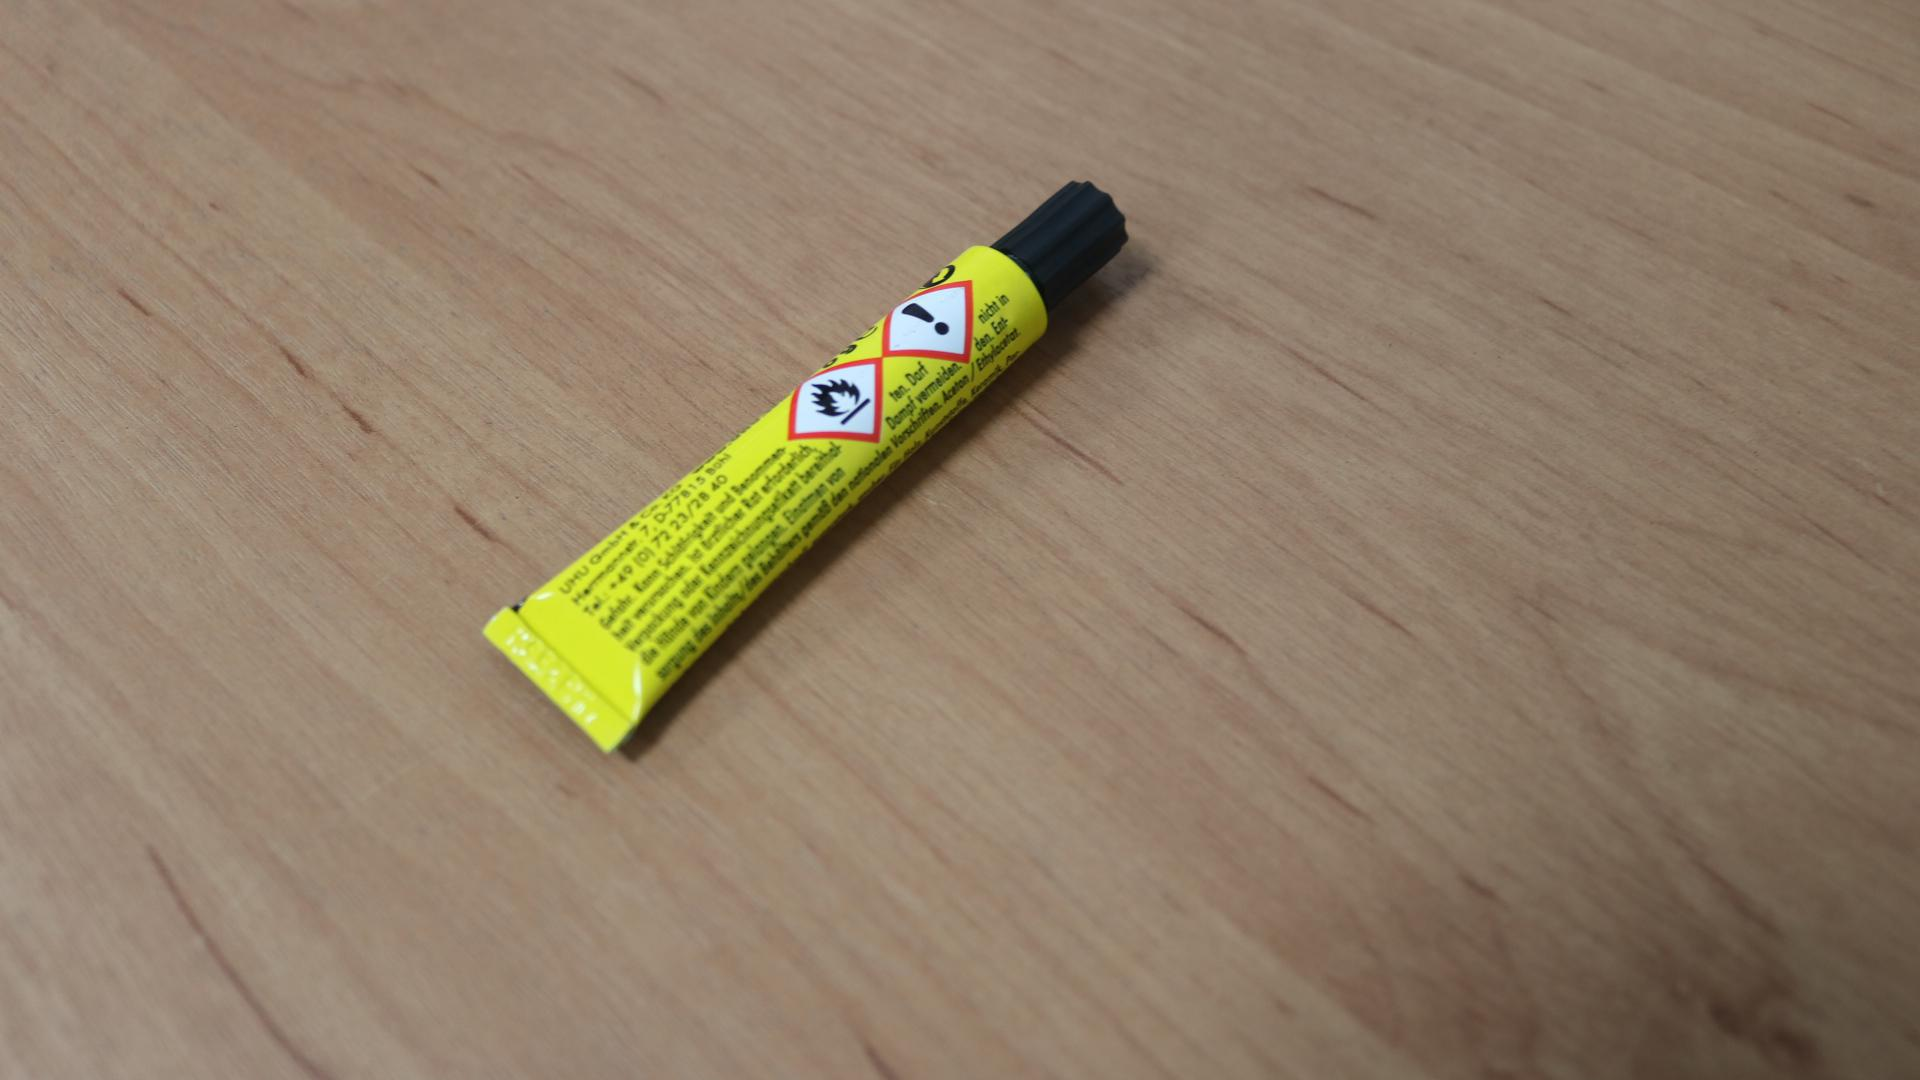Head: (1051, 233, 1073, 252)
Tail: (551, 665, 574, 694)
Tube: (487, 175, 1133, 754)
